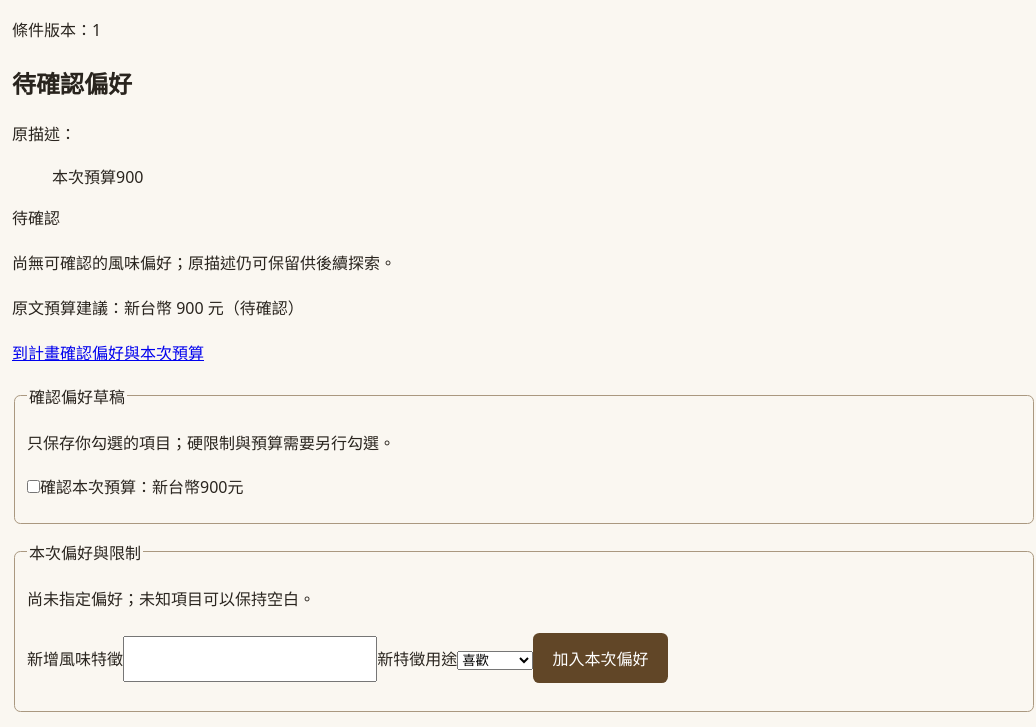
Test: confirming a proposed budget updates the editable value and clearing that selection restores the saved budget
Click the checkbox labelled "確認本次預算：新台幣900元" at (34, 487), box 27,480 -> 40,493
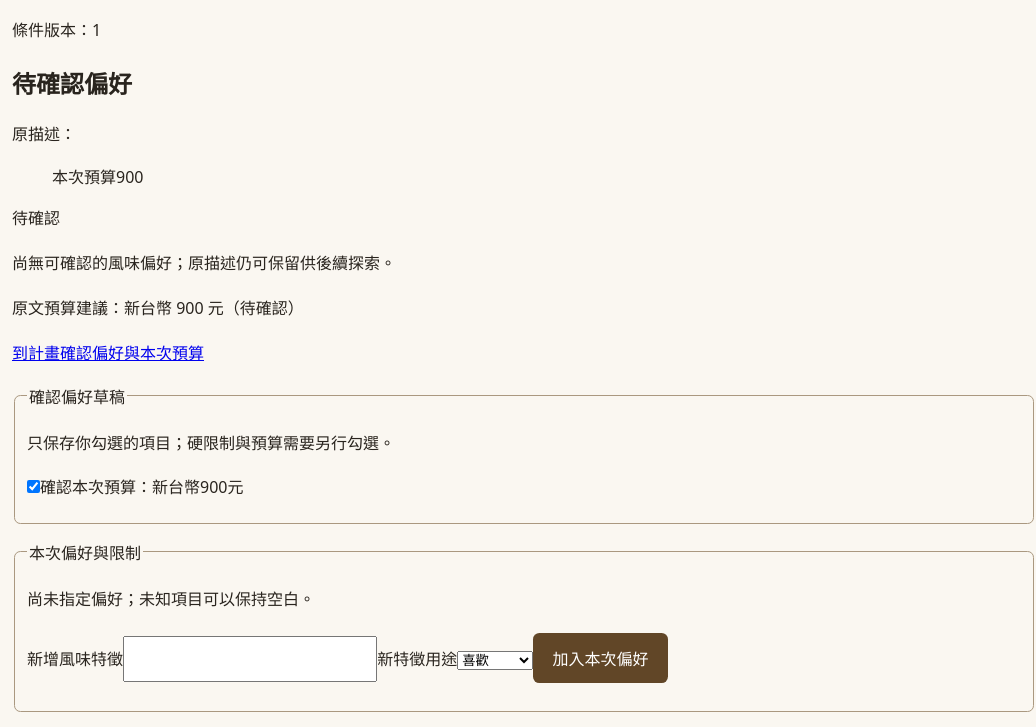
Click the checkbox labelled "確認本次預算：新台幣900元" at (34, 487), box 27,480 -> 40,493
(page scrolled)
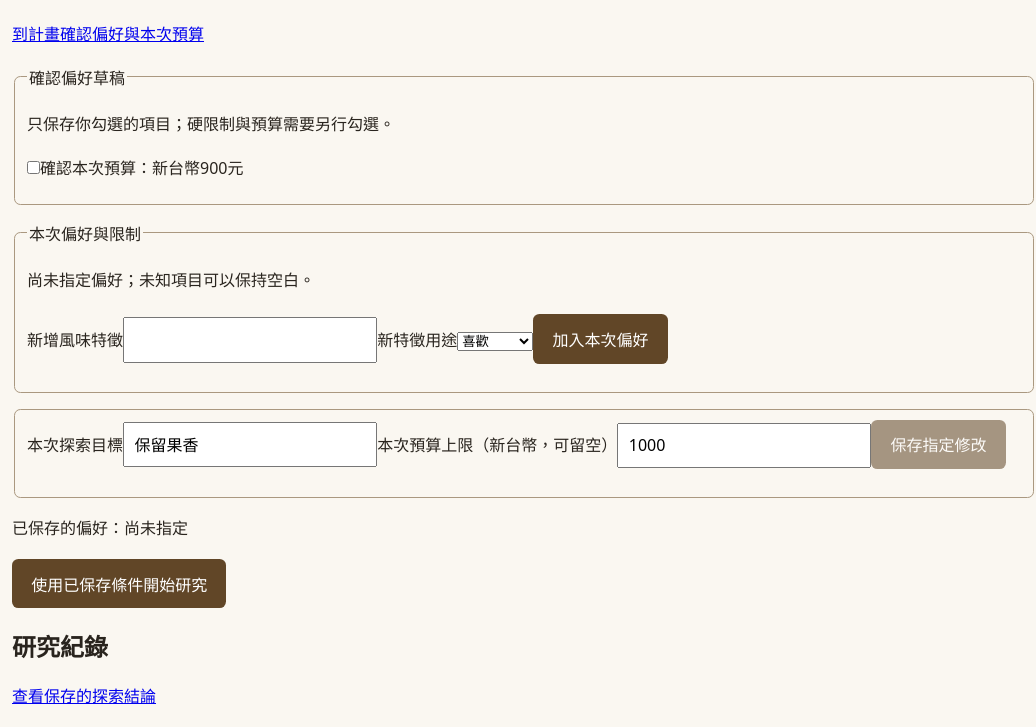
Expected: the number field labelled "本次預算上限（新台幣，可留空）" holds "1000", 617,423 -> 871,468
